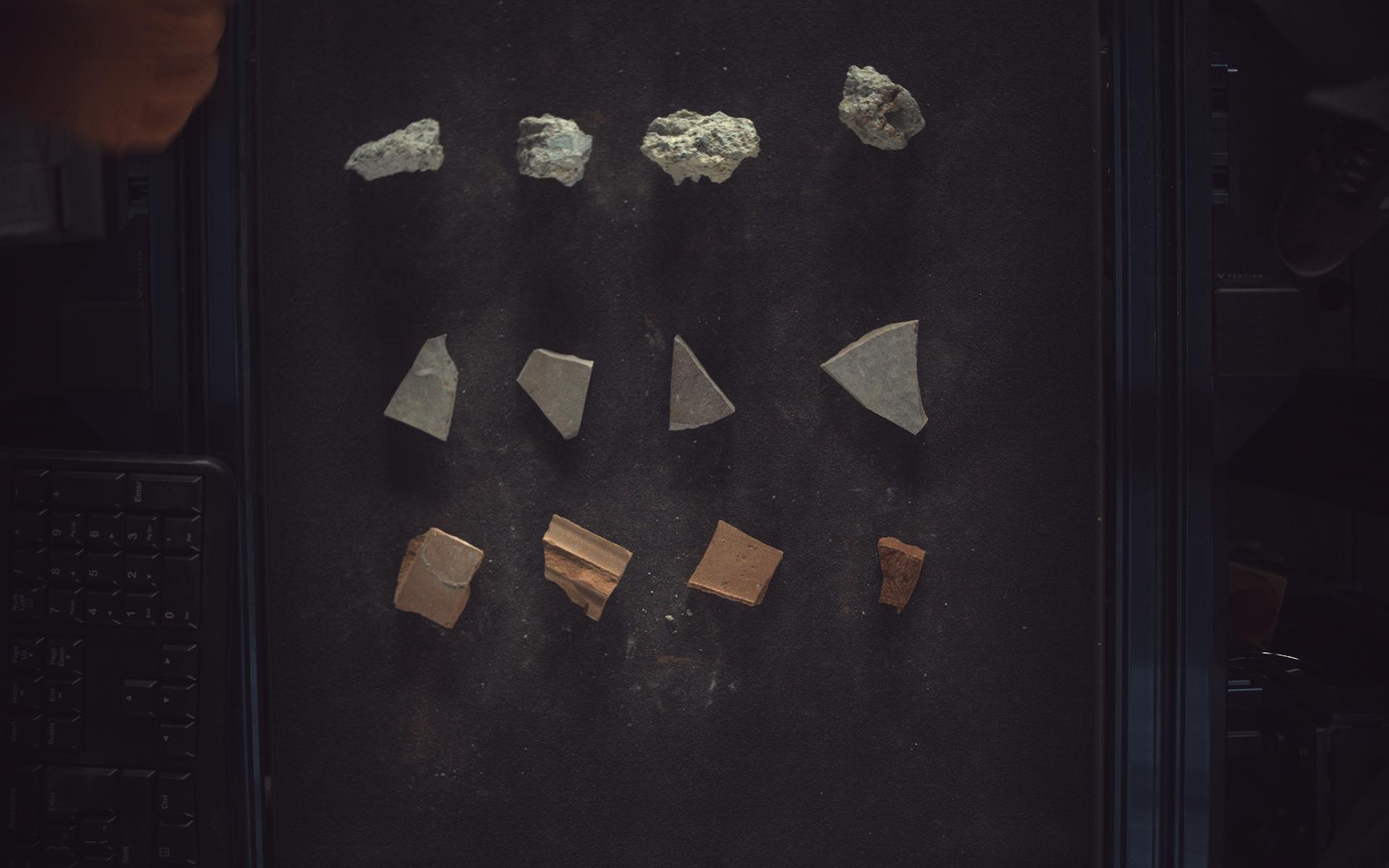brick: (543, 515, 633, 621), (394, 529, 484, 629), (689, 521, 784, 607), (880, 538, 927, 613)
concrete: (642, 109, 761, 184), (841, 64, 927, 149), (344, 117, 444, 179), (517, 113, 592, 186)
tile: (823, 320, 930, 434), (383, 334, 459, 441), (518, 349, 593, 439), (670, 336, 736, 430)
